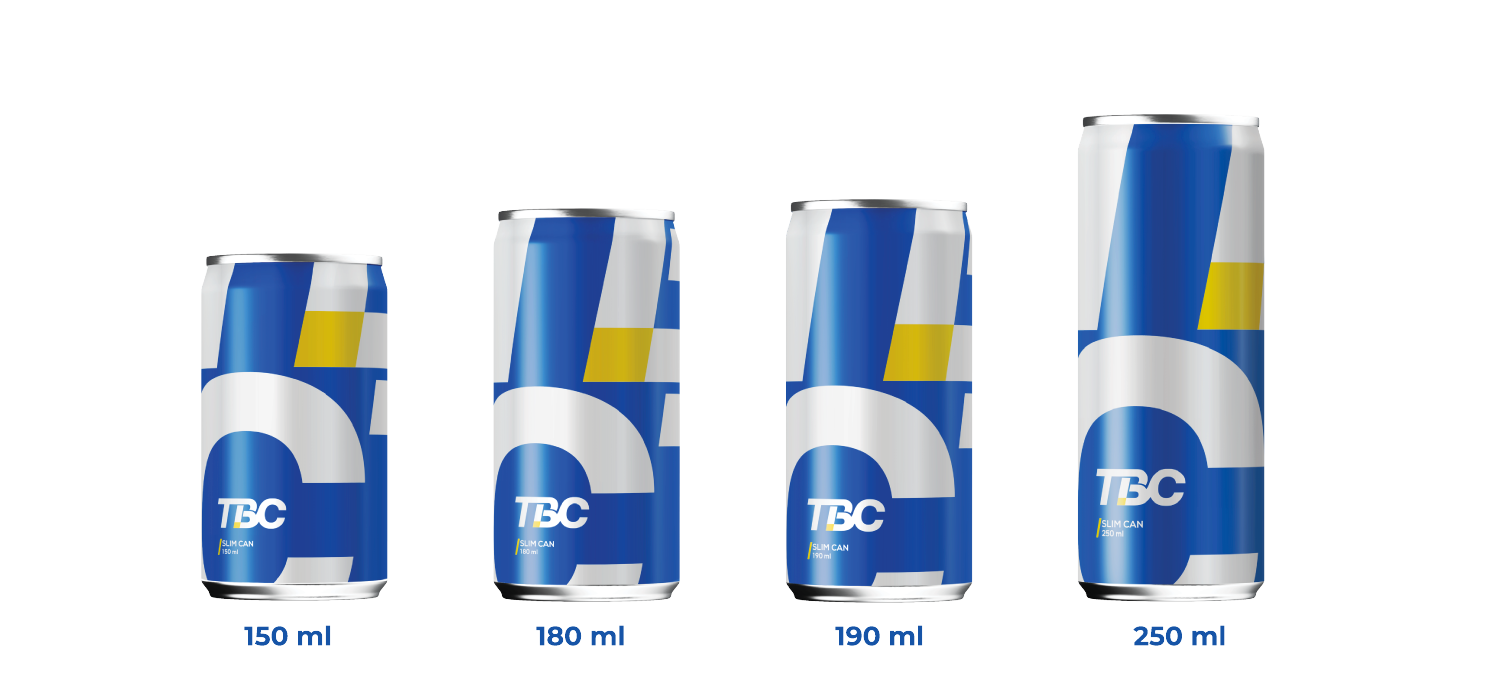can: (1077, 112, 1271, 608), (784, 198, 984, 614), (488, 207, 690, 607), (197, 247, 397, 607)
